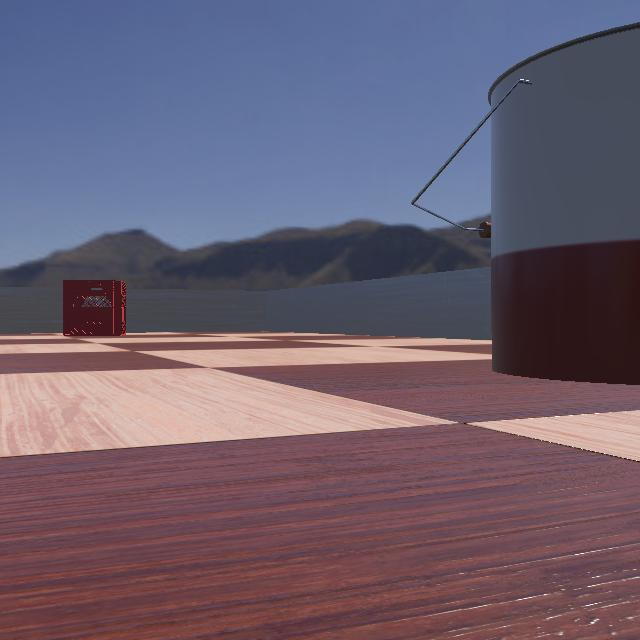paint-bucket: (395, 6, 639, 392), (395, 6, 639, 392)
plastic-crate: (54, 279, 134, 335)
